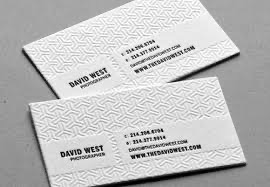paper: (21, 1, 248, 186)
